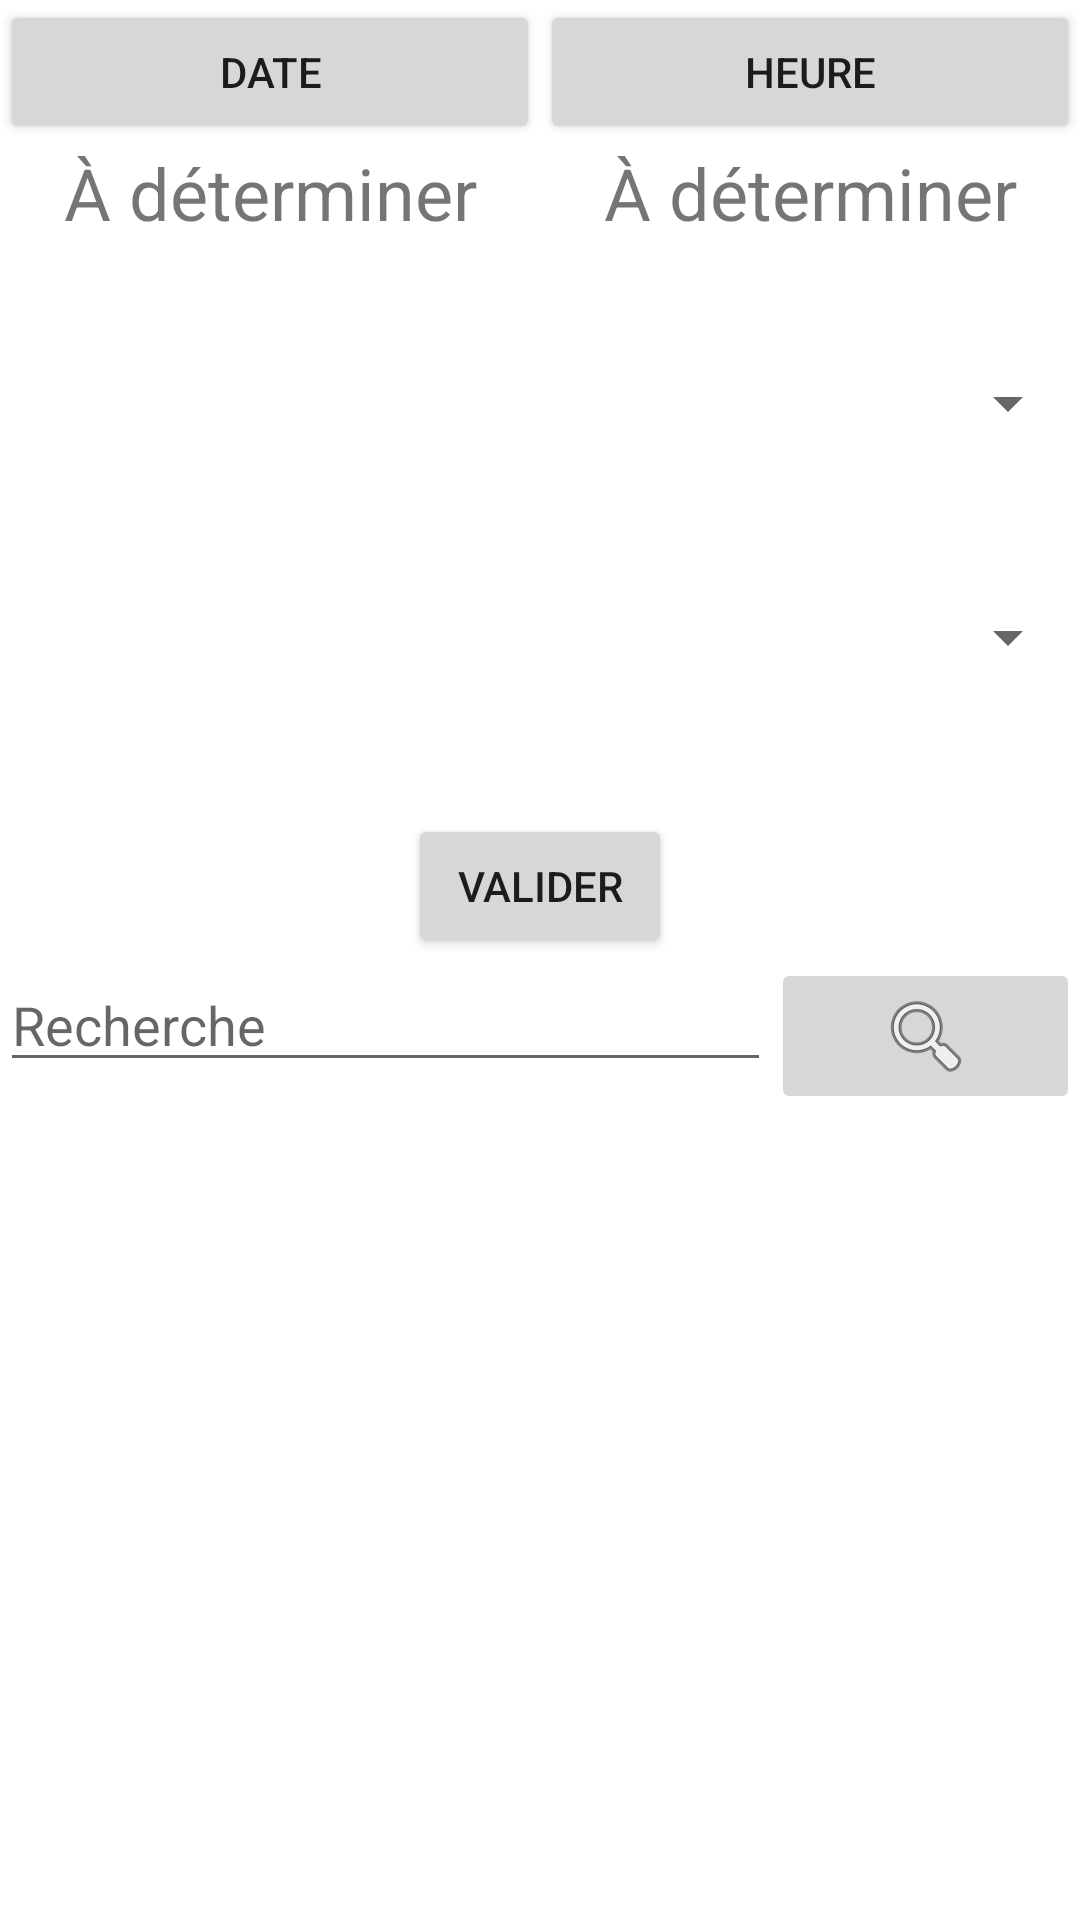

Locate icon controls on the screen. Image size 1080w x 1920h, boxes as bbox=(x1, y1, x2, y2).
search: bbox=(783, 976, 1068, 1096)
